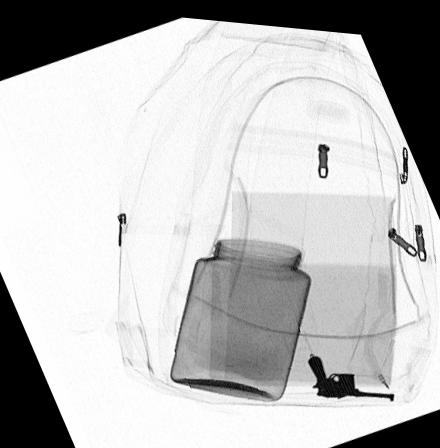Gun: (307, 350, 393, 396)
